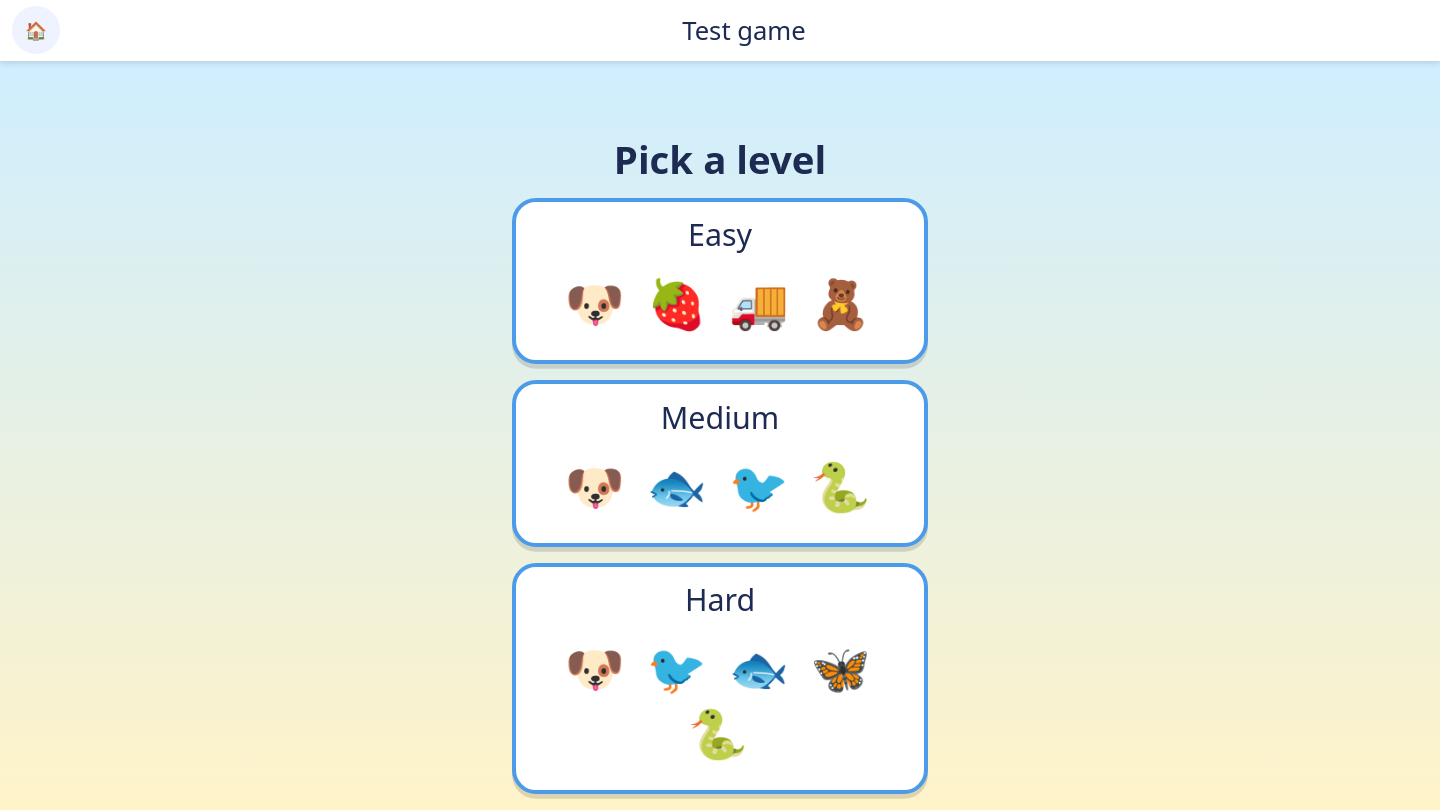
BucketScreen › does a nuh-uh for a wrong bucket and keeps the item for another go
The image size is (1440, 810).
Click the button "Easy 🐶 🍓 🚚 🧸" at (720, 281), box [512,198,928,364]
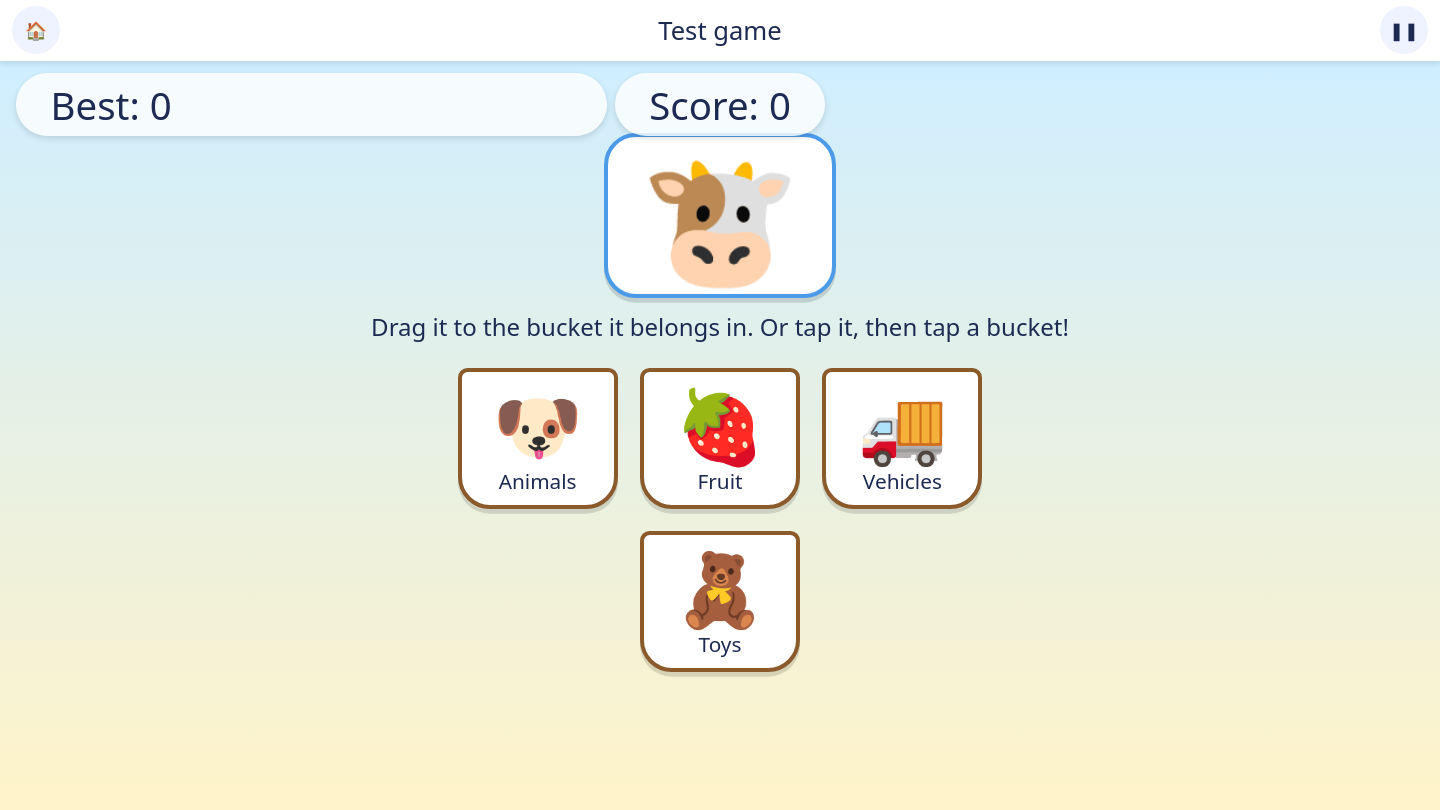
Click the button named "Item:" at (720, 215), box [604,133,836,298]
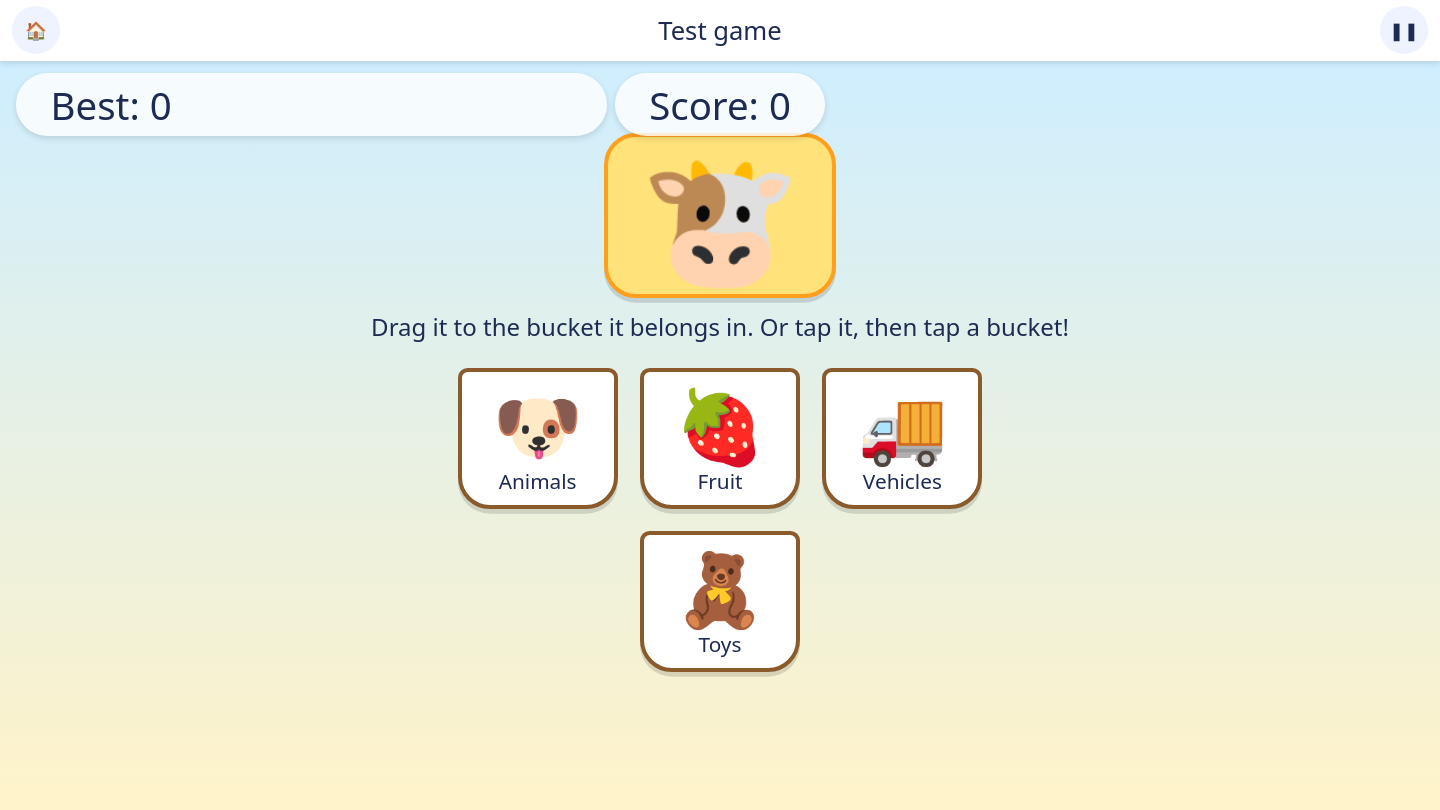
Click the button "🚚 Vehicles" at (902, 438), box [822,368,982,509]
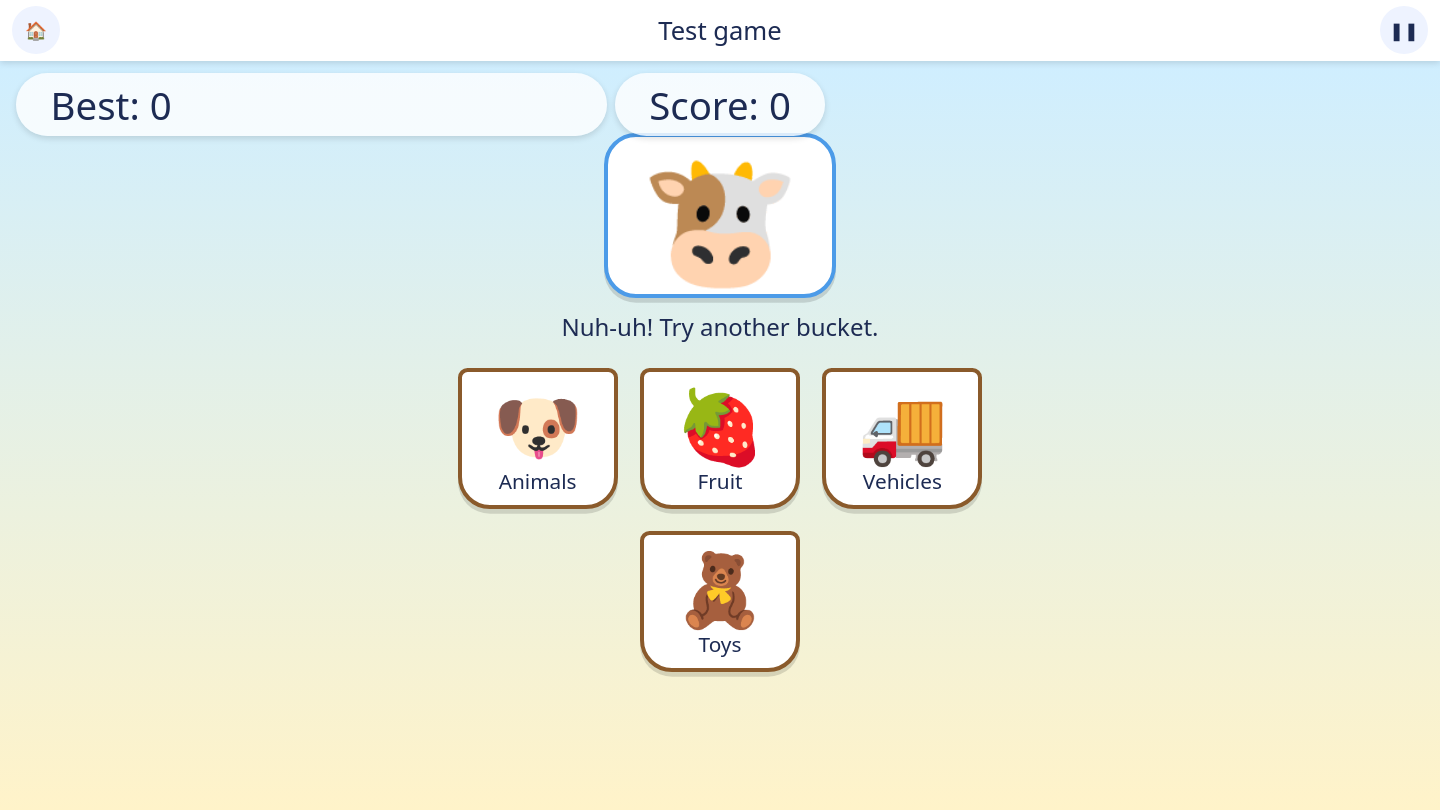
Expected: the message "Score: 0" is shown, [615,73,825,136]
Expected: the message "Nuh-uh! Try another bucket." is shown, [562,310,879,355]
